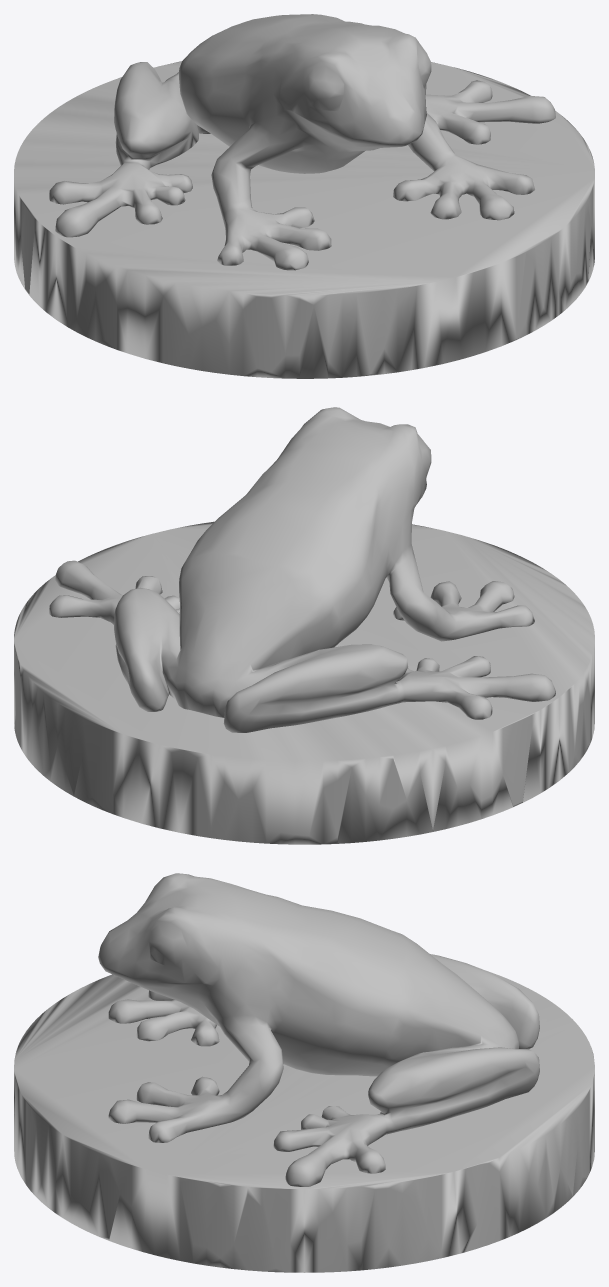
The model's file is frog.glb.
3 renders of one model, top to bottom at view 1: azimuth 30°, elevation 25°; view 2: azimuth 150°, elevation 25°; view 3: azimuth 270°, elevation 25°, orthographic.
Parts seen in each view (by area): view 1: Frog.001; view 2: Frog.001; view 3: Frog.001.
Boxes of the visible parts, left/top/right/bottom form: Frog.001: left=14, top=14, right=594, bottom=378; Frog.001: left=14, top=407, right=594, bottom=844; Frog.001: left=14, top=873, right=594, bottom=1272.
Size of the model in its own units: 16.37 by 7.99 by 16.37.
Materials: 1 (1 with a texture image).
